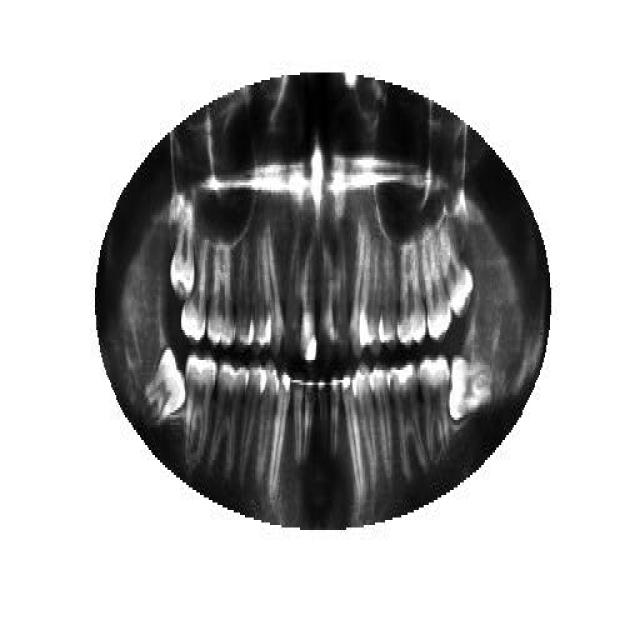Fillings: (386, 362, 429, 482), (298, 242, 318, 362)
Impacted Tooth: (142, 348, 186, 428), (448, 352, 493, 428), (170, 215, 195, 300)
